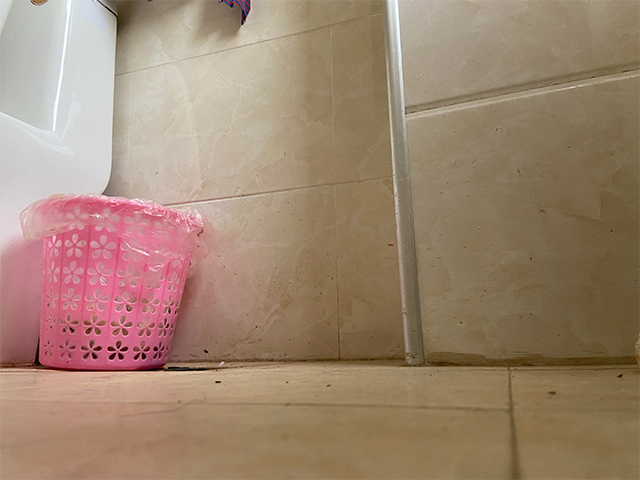trashcan: (20, 193, 205, 373)
